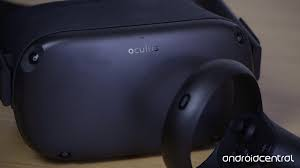oculus: (14, 5, 264, 162)
